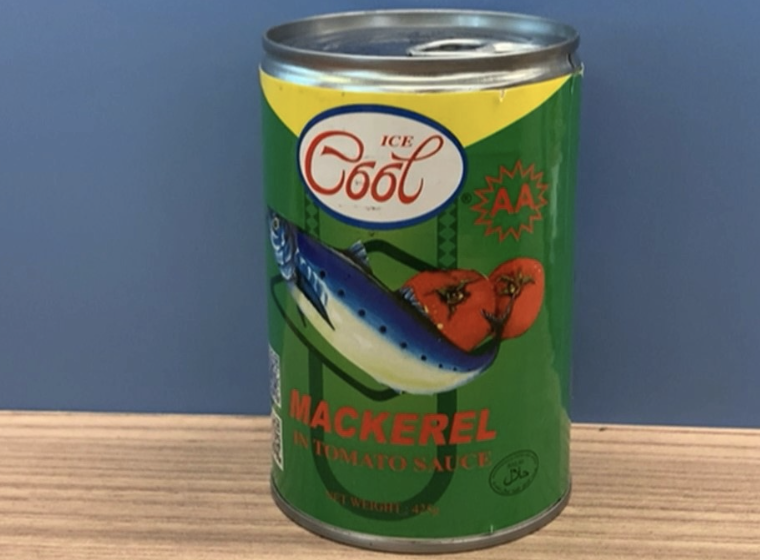sardines_400g-499g: (273, 94, 560, 510)
